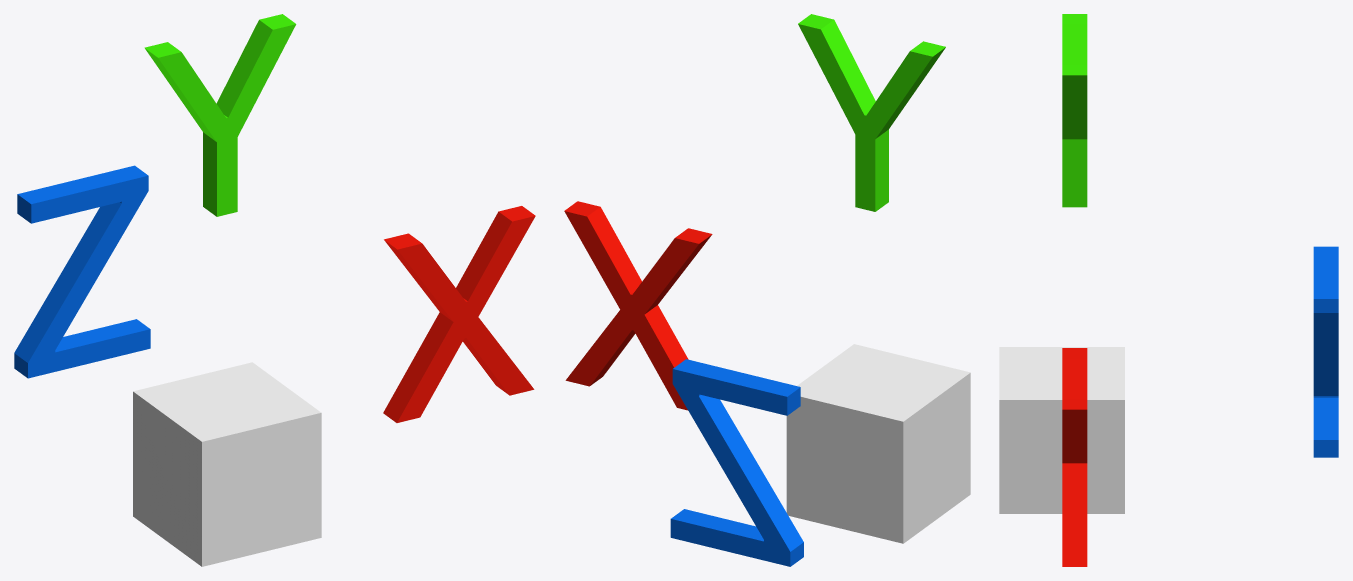
File: alphabet.fbx
3 views of the same model, side by side, from view 1: azimuth 30°, elevation 25°; view 2: azimuth 150°, elevation 25°; view 3: azimuth 270°, elevation 25° (orthographic). The views are drawn at different scales.
Parts seen in each view (by area): view 1: Cube, Z, X, Y; view 2: Cube, Z, X, Y; view 3: Cube, X, Z, Y.
Boxes of the visible parts, x1,y1,x2,y2 form: Cube: [133, 362, 321, 566]; Z: [14, 165, 150, 378]; X: [383, 206, 535, 422]; Y: [144, 14, 296, 216]; Cube: [786, 344, 970, 543]; Z: [670, 359, 803, 566]; X: [564, 201, 712, 410]; Y: [798, 14, 945, 211]; Cube: [999, 347, 1124, 513]; X: [1062, 348, 1087, 566]; Z: [1313, 246, 1338, 457]; Y: [1062, 14, 1087, 207].
Bounding box in the file's own units: 316 × 389 × 270.
